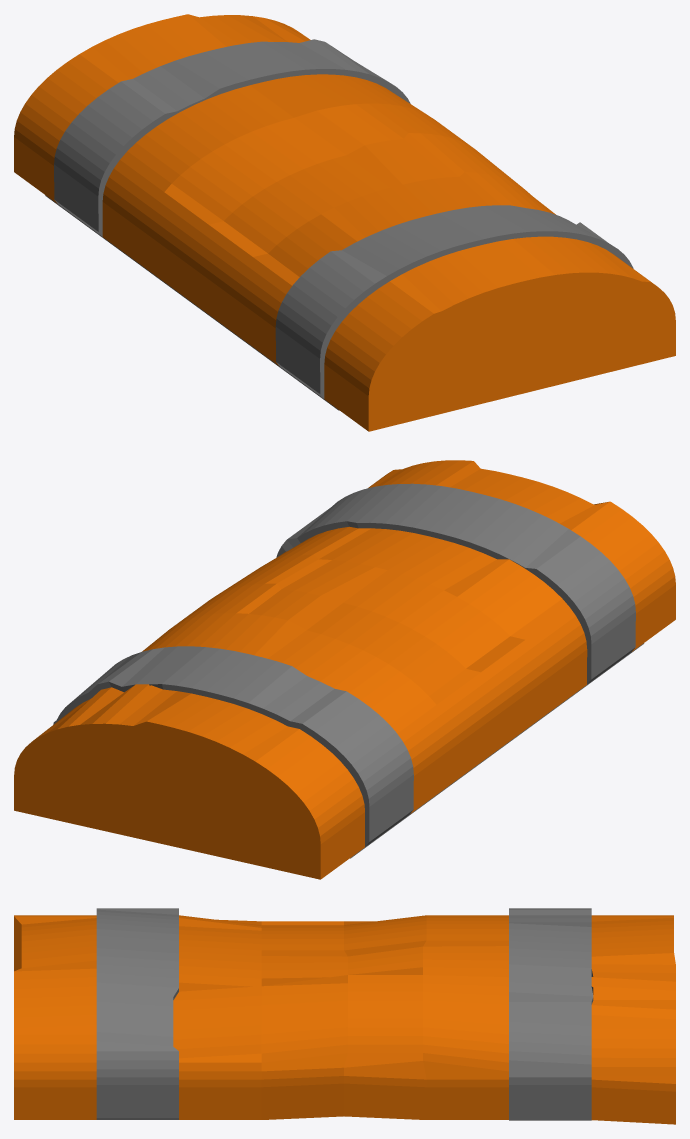
The model's file is ChestLid.fbx.
The picture shows the model from 3 angles, top to bottom: view 1: azimuth 30°, elevation 25°; view 2: azimuth 150°, elevation 25°; view 3: azimuth 270°, elevation 25°; orthographic projection. The views are drawn at different scales.
Visible parts, largest first — view 1: Cube.001; view 2: Cube.001; view 3: Cube.001.
Part boxes in pixels (x1,y1,x2,y2): Cube.001: [14, 14, 675, 431]; Cube.001: [14, 460, 675, 879]; Cube.001: [14, 908, 675, 1124].
Bounding box in the file's own units: 309 × 118 × 602.
